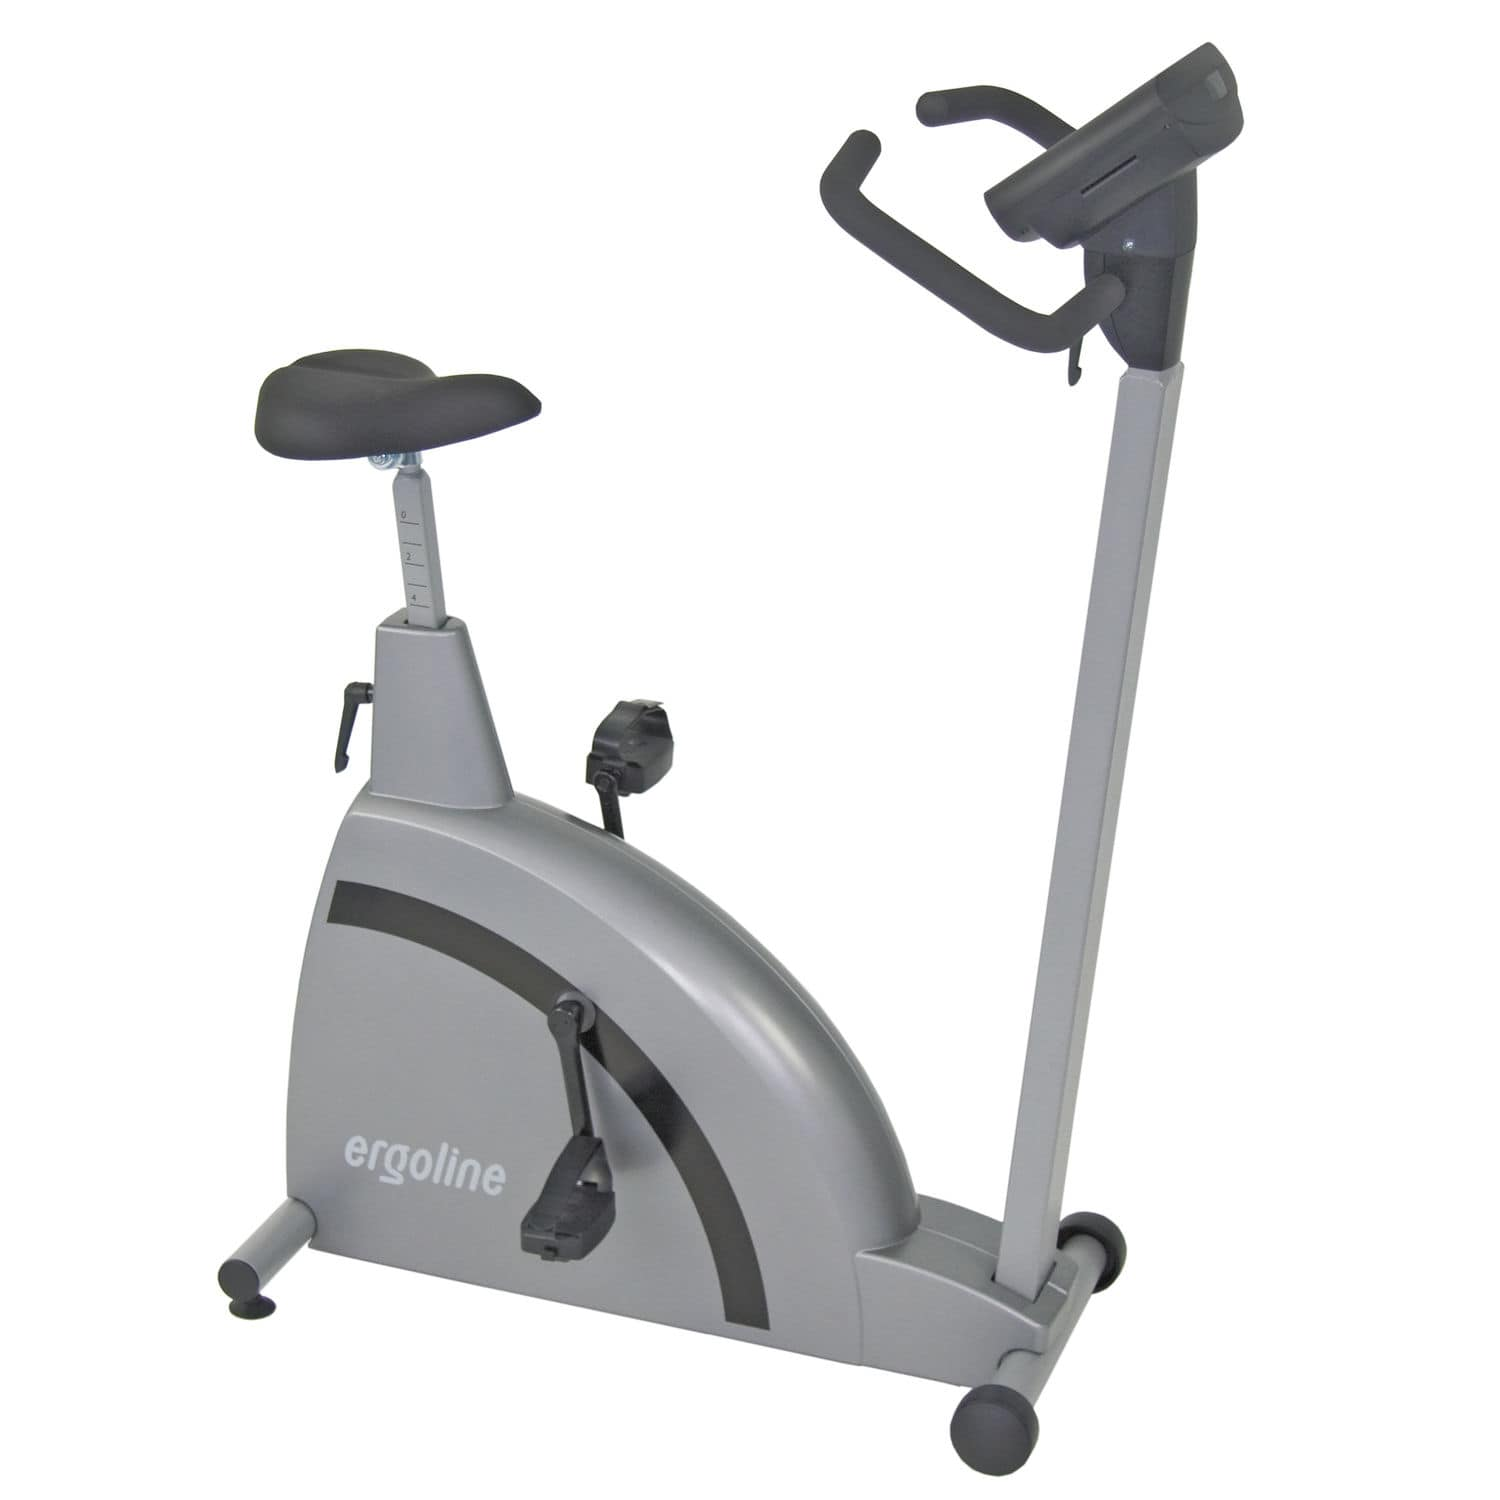gym_bike: (113, 32, 1288, 1485)
